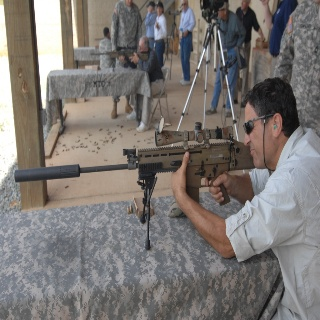rifle: (14, 120, 257, 206)
